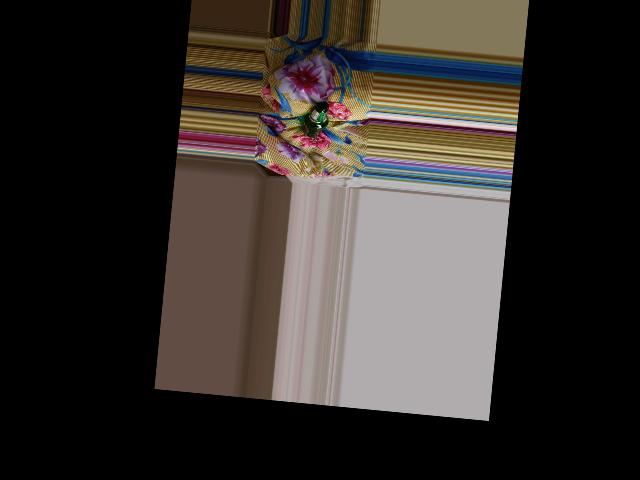beer: (302, 99, 330, 138)
